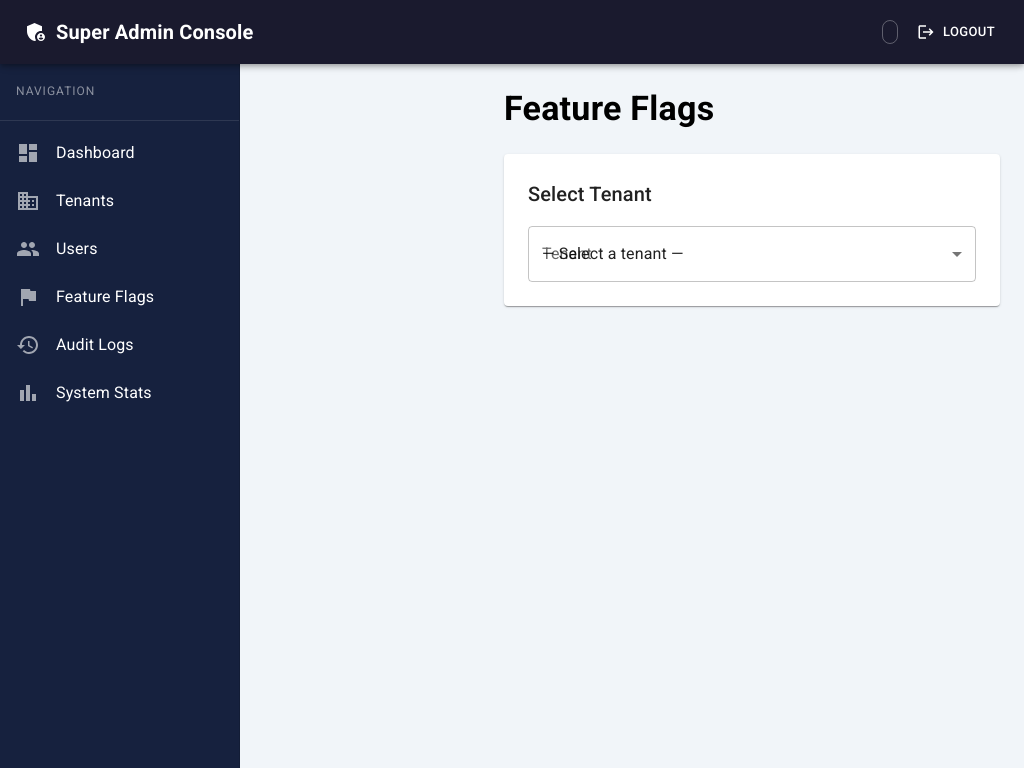
Test case: FeatureFlags page › saves flags and shows success message
Select "Acme Corp" in the dropdown at (752, 254), box [528, 226, 976, 282]
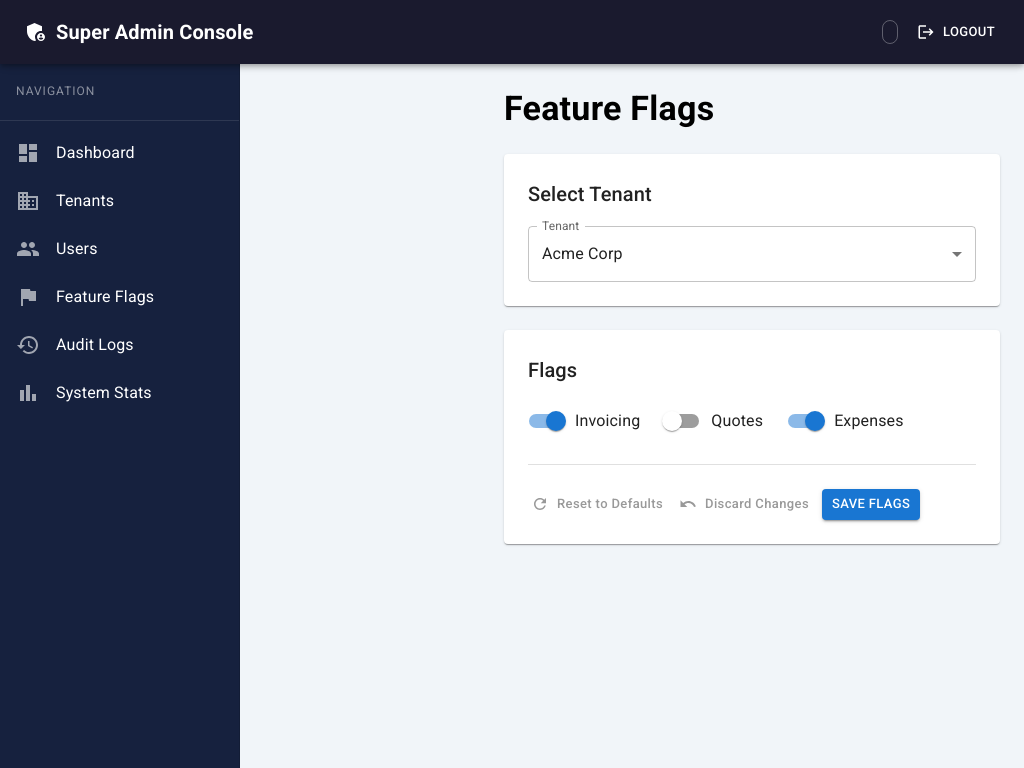
Result: the button "Save Flags" is shown
Click the button "Save Flags" at (871, 504), box [822, 489, 920, 520]
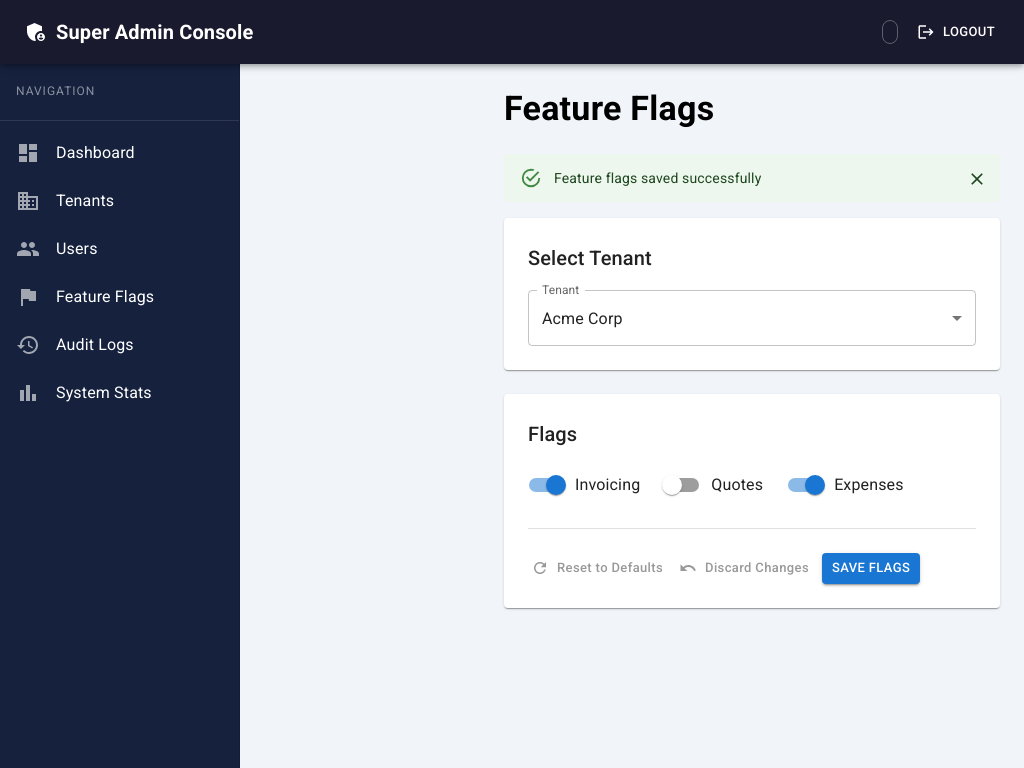
Result: the text "Feature flags saved successfully" is shown at [554, 170, 761, 186]
